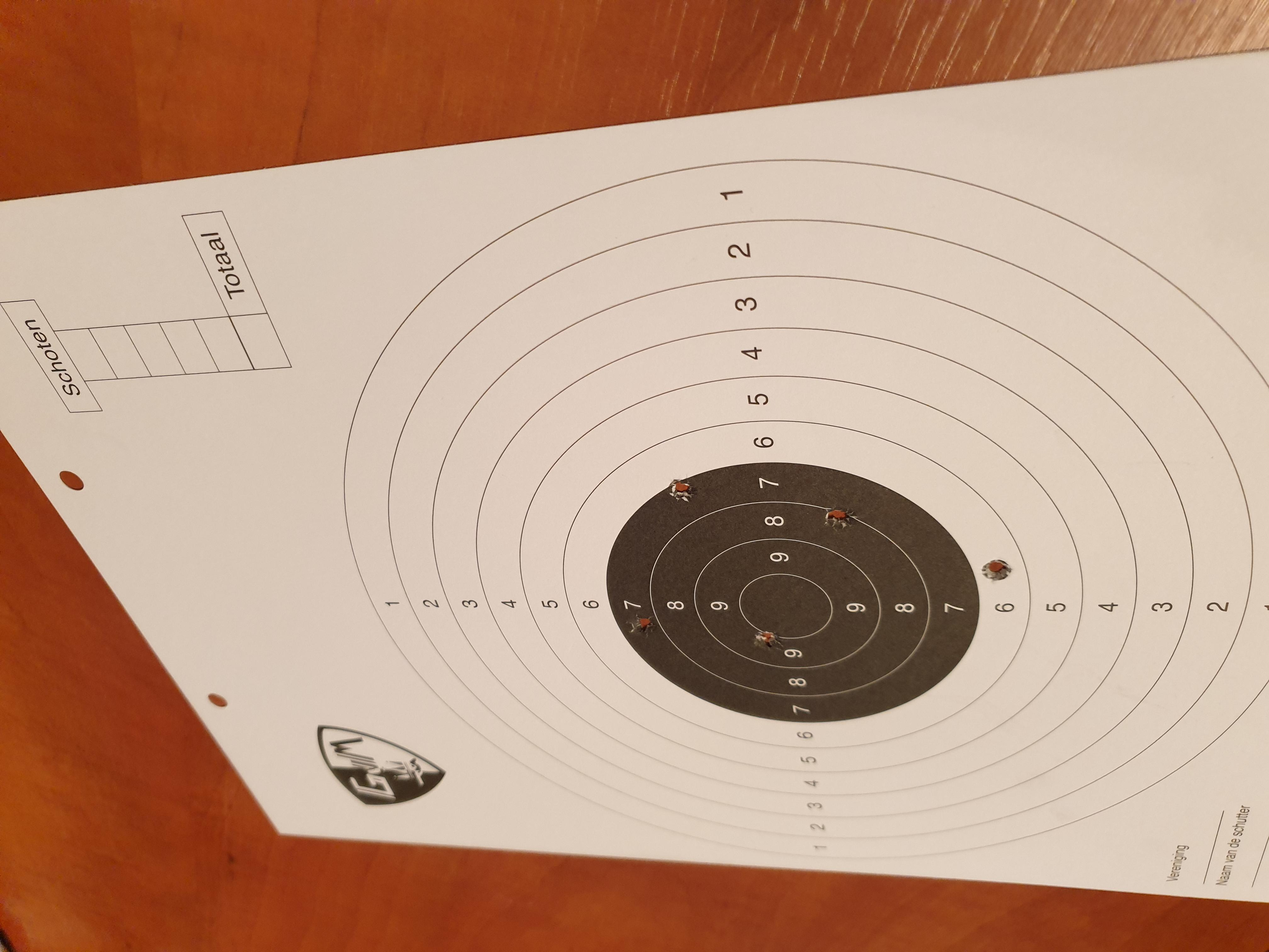hole: (254, 367, 292, 397), (412, 420, 447, 448), (609, 313, 644, 340), (571, 447, 601, 475), (485, 301, 517, 322)
